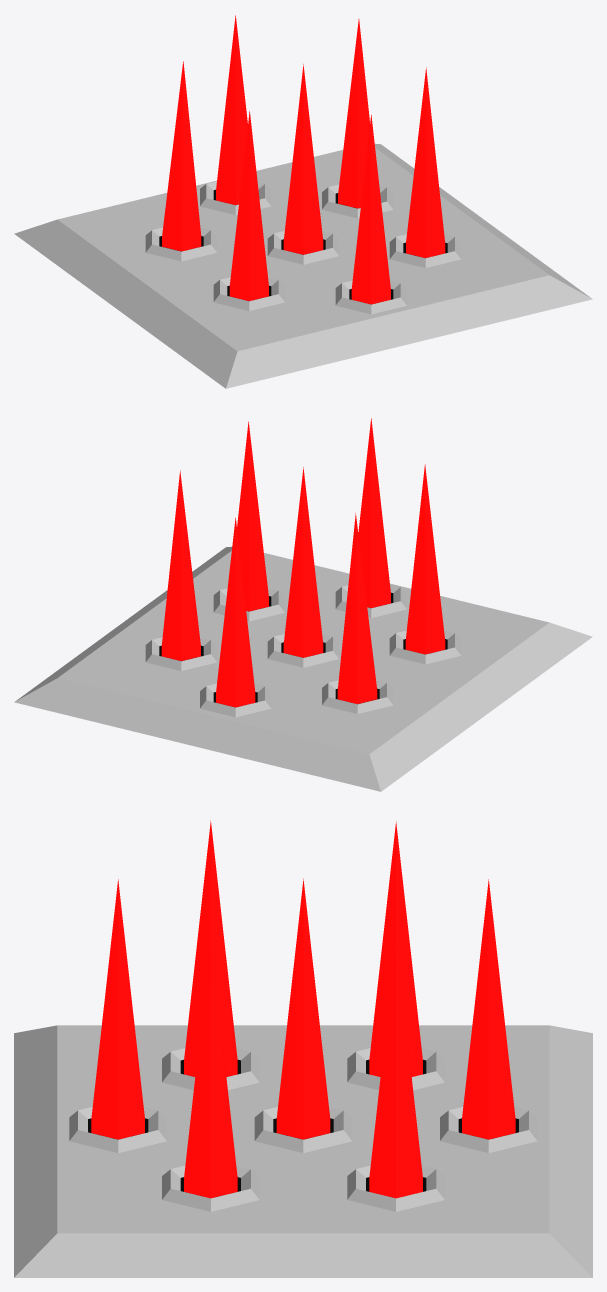
Rendered from trap-spike-animated.glb.
The picture shows the model from 3 angles, top to bottom: view 1: azimuth 30°, elevation 25°; view 2: azimuth 150°, elevation 25°; view 3: azimuth 270°, elevation 25°; orthographic projection. The views are drawn at different scales.
Visible parts, largest first — view 1: Base, Spikes; view 2: Base, Spikes; view 3: Base, Spikes.
Boxes of the visible parts, box(x1,y1,x2,y2) form: Base: box(14, 143, 592, 388); Spikes: box(162, 15, 445, 304); Base: box(14, 546, 592, 791); Spikes: box(161, 418, 445, 707); Base: box(14, 1025, 592, 1277); Spikes: box(91, 820, 515, 1198).
Bounding box in the file's own units: 2 × 1.06 × 2.
